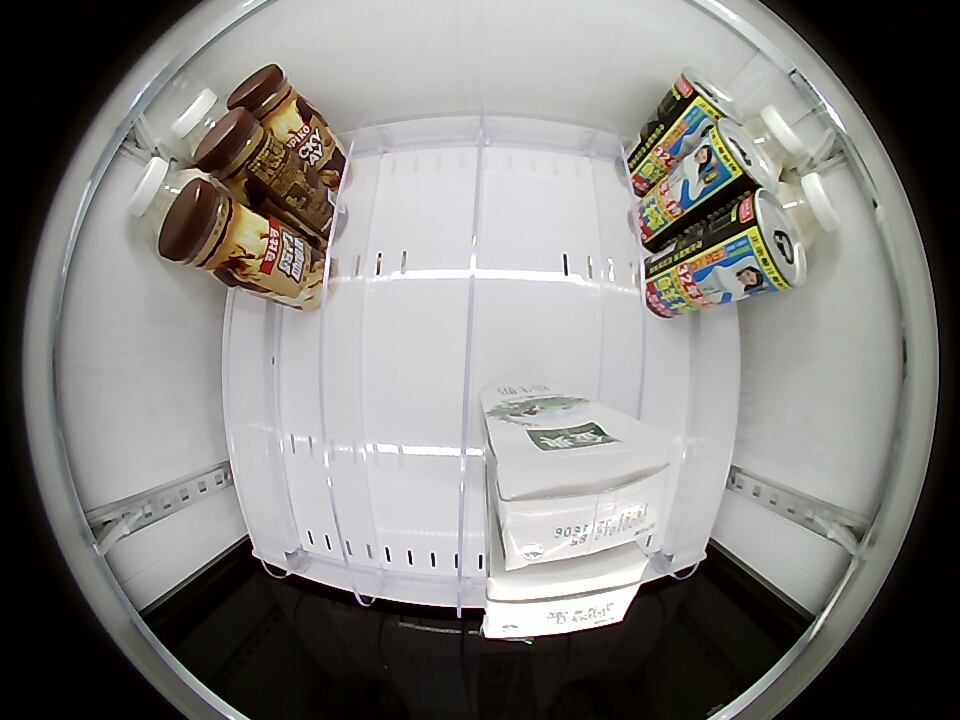jindian: (491, 423, 674, 569), (482, 551, 650, 640)
lujikafei: (157, 178, 268, 283), (195, 107, 284, 197), (228, 63, 310, 138)
weiweidounai: (128, 157, 202, 236), (742, 105, 805, 183), (780, 172, 843, 246), (172, 89, 231, 158)
yezhi: (728, 189, 809, 295), (704, 116, 772, 196), (673, 69, 740, 126)
